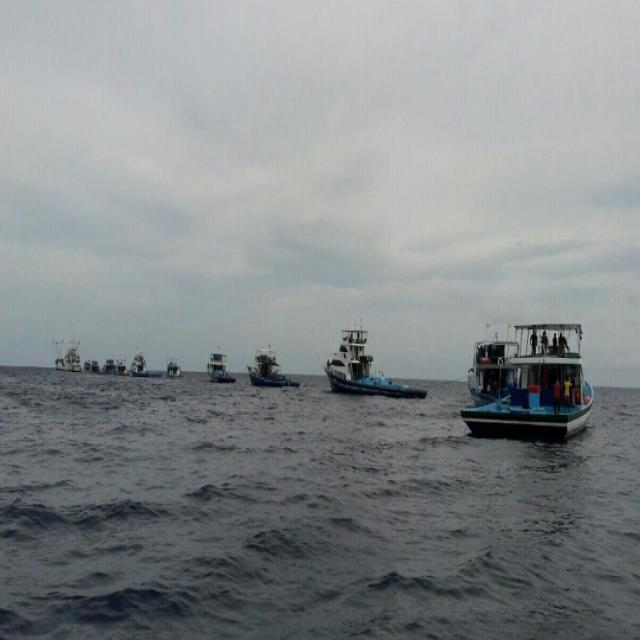fishing boat: (442, 303, 604, 449), (307, 314, 433, 414), (250, 343, 304, 391), (204, 340, 233, 385), (129, 348, 158, 379)
